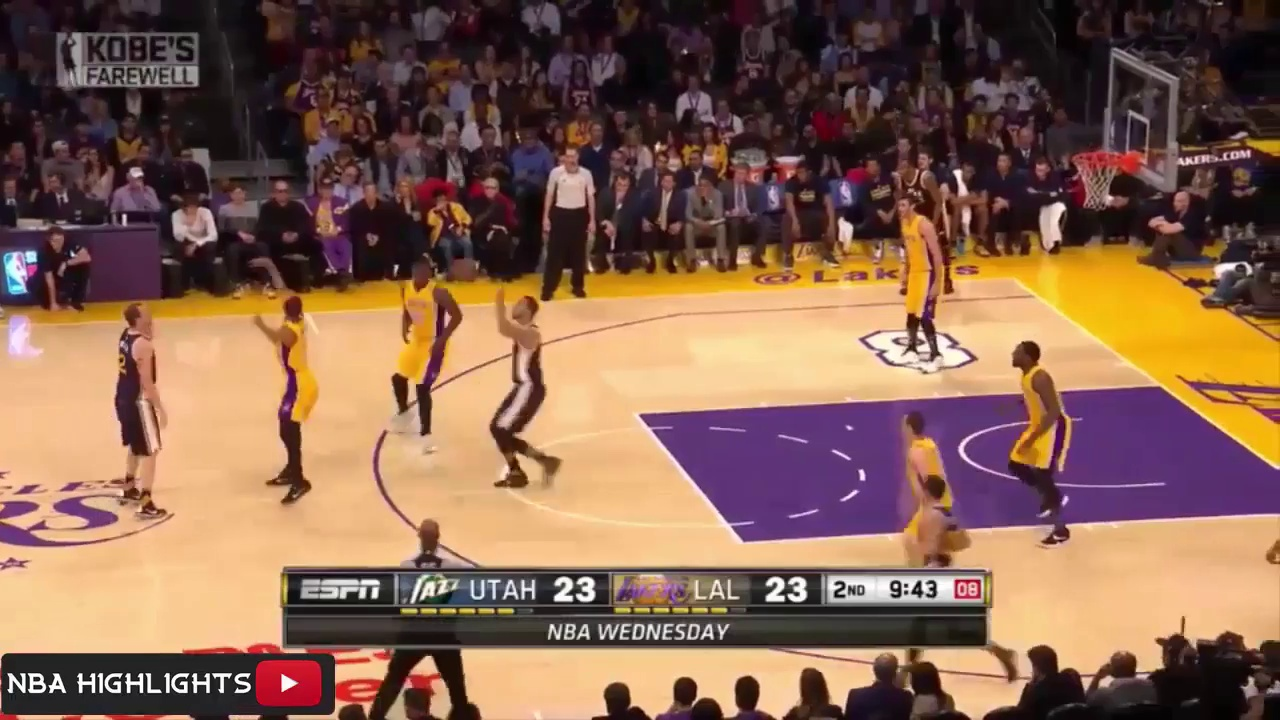jazz: (491, 279, 580, 498), (101, 288, 176, 524), (895, 160, 950, 278), (916, 477, 960, 568)
lakers: (245, 261, 320, 508), (999, 334, 1084, 547), (384, 251, 470, 447), (891, 192, 961, 381), (892, 409, 946, 541)
